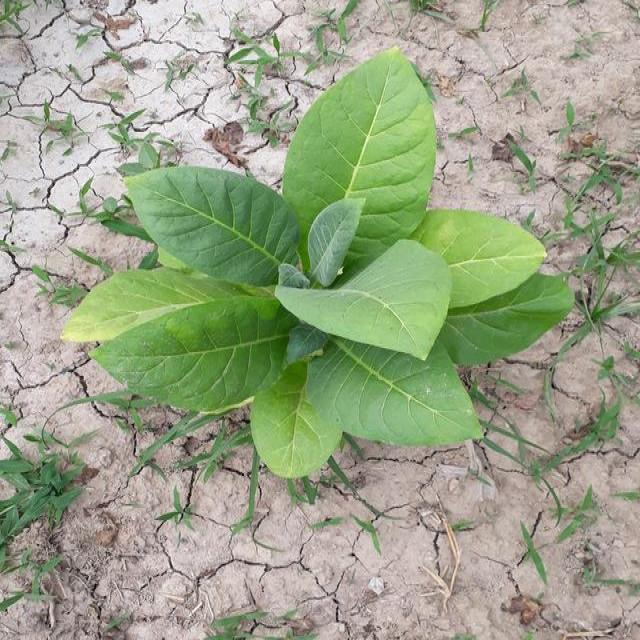crop: (58, 42, 578, 486)
